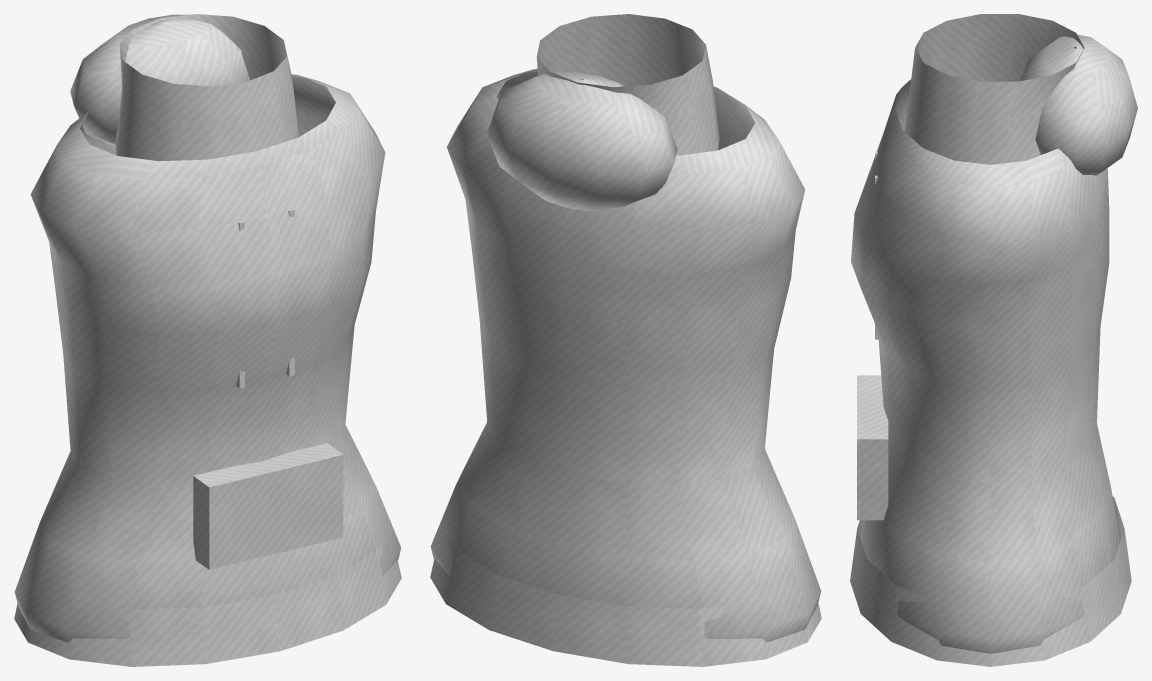
The model's file is shirt_hoodie_torso_f.glb.
The picture shows the model from 3 angles, left to right: view 1: azimuth 30°, elevation 25°; view 2: azimuth 150°, elevation 25°; view 3: azimuth 270°, elevation 25°; orthographic projection. The views are drawn at different scales.
Visible parts, largest first — view 1: shirt_hoodie_torso_f; view 2: shirt_hoodie_torso_f; view 3: shirt_hoodie_torso_f.
Boxes of the visible parts, x1,y1,x2,y2 form: shirt_hoodie_torso_f: (14,14,401,666); shirt_hoodie_torso_f: (430,14,821,666); shirt_hoodie_torso_f: (850,14,1137,666).
Bounding box in the file's own units: 0.46 × 0.66 × 0.323.
Materials: 1 (1 with a texture image).
